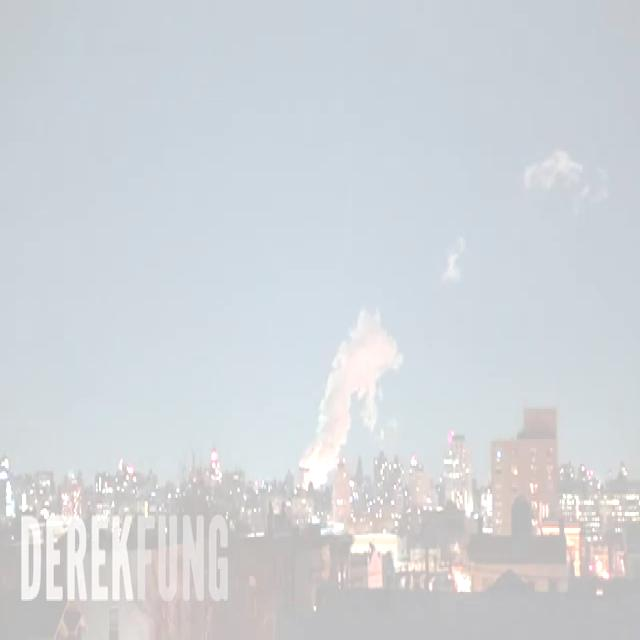smoke: (303, 311, 401, 482)
